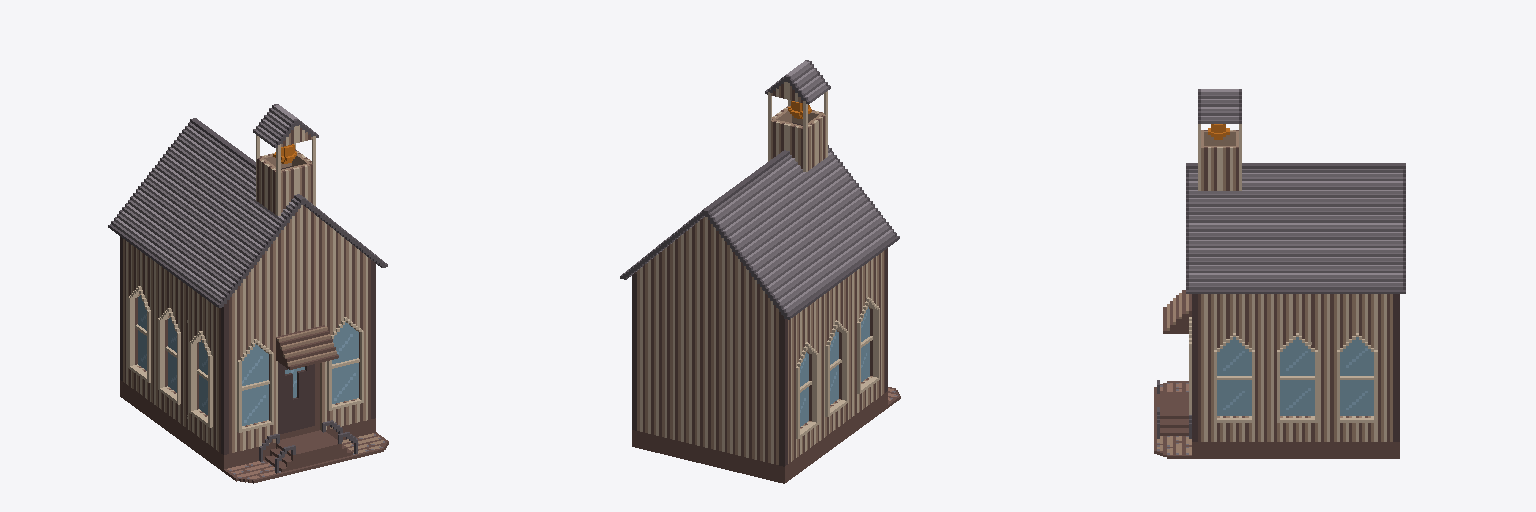
3 renders of one model, left to right at view 1: azimuth 30°, elevation 25°; view 2: azimuth 150°, elevation 25°; view 3: azimuth 270°, elevation 25°, orthographic.
Visible parts, largest first — view 1: default; view 2: default; view 3: default.
Boxes of the visible parts, x1,y1,x2,y2 form: default: [108, 104, 388, 483]; default: [620, 60, 900, 483]; default: [1154, 89, 1405, 458].
Bounding box in the file's own units: 62 × 116 × 80.
1 materials, 1 textured.